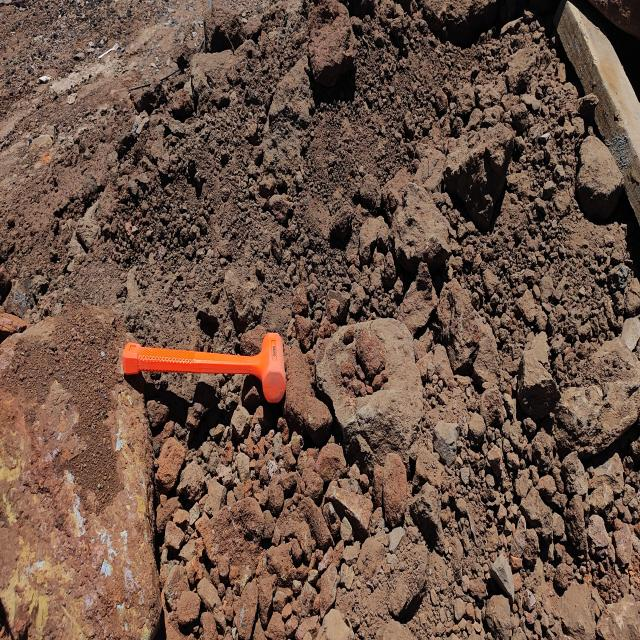Orange_hammer: (121, 331, 286, 405)
